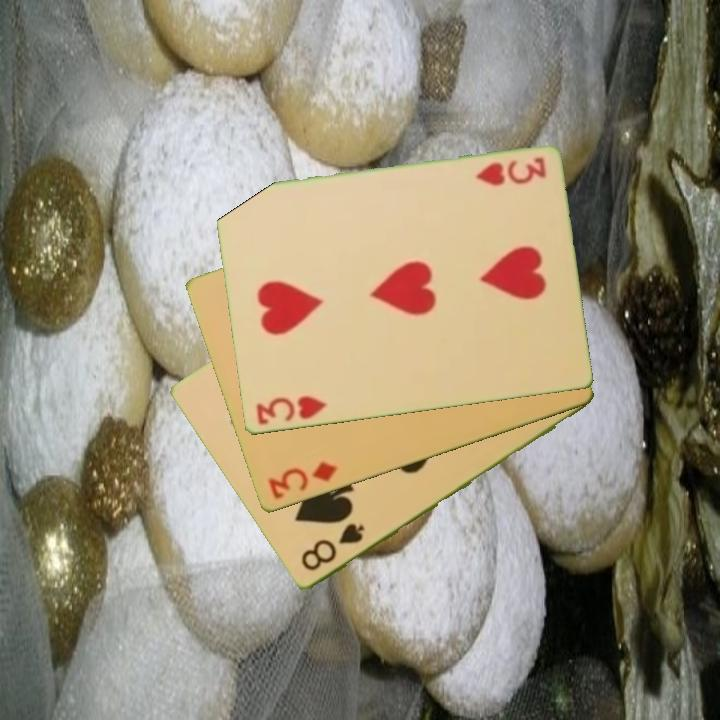3d: (264, 458, 340, 503)
3h: (252, 393, 329, 429), (472, 154, 549, 190)
8s: (297, 520, 368, 575)
